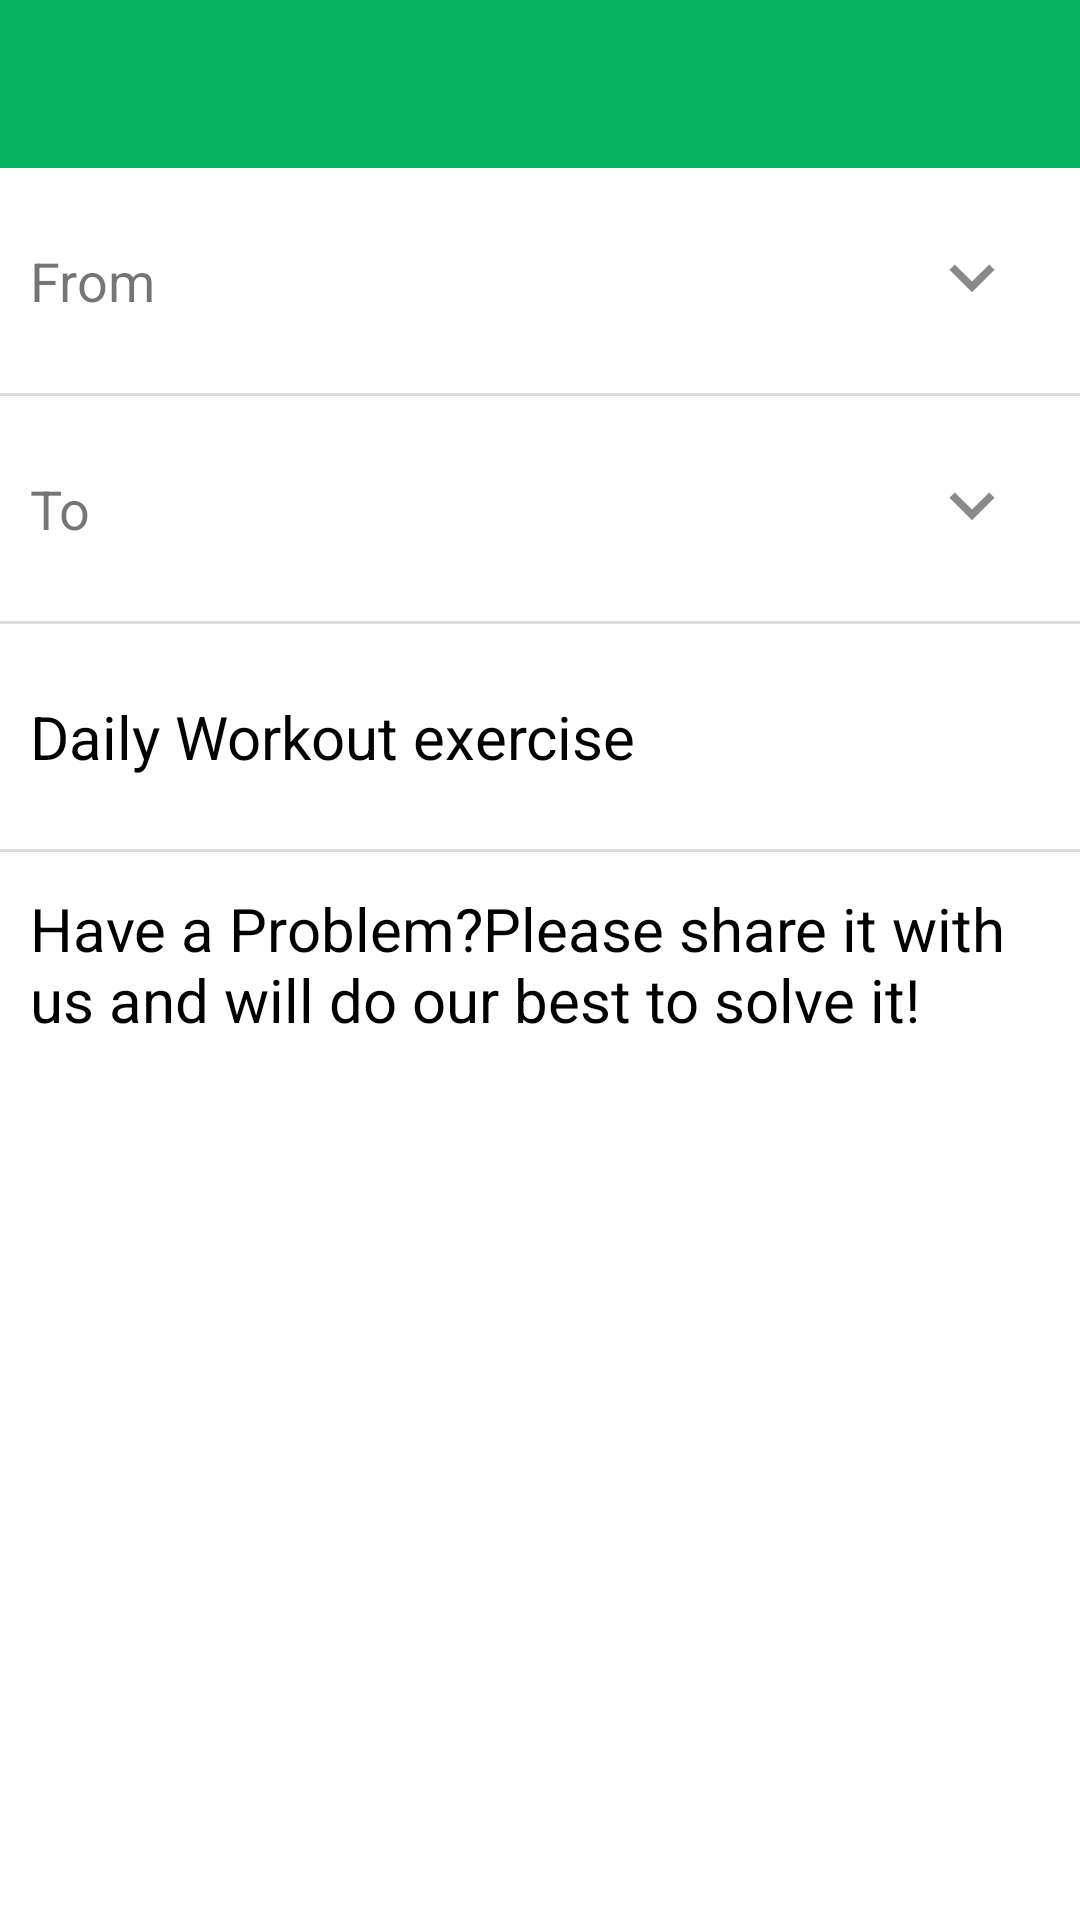

Screen size 1080px x 1920px. Icon name, then its box in pixels as (x1, y1, x2, y2):
keyboard arrow down: (949, 264, 994, 292), (949, 492, 994, 520)
